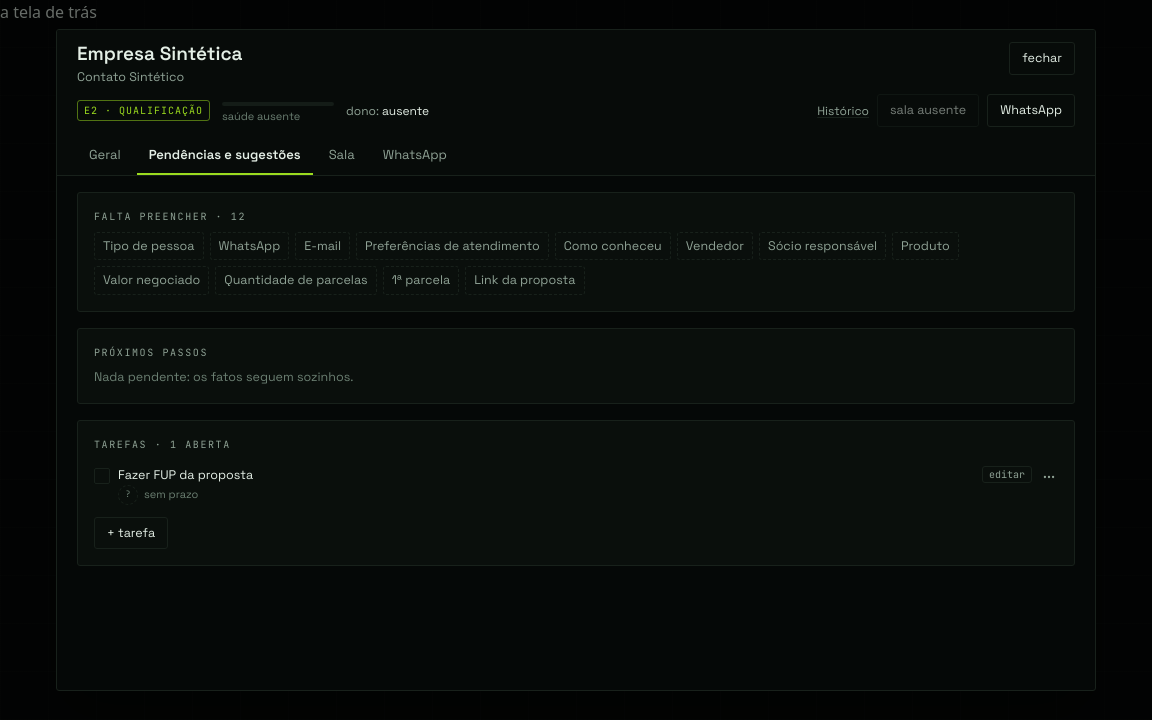
Test: o bloco "Tarefas" do painel do lead › Layout 26/10: a tarefa abre no pop-up único POR CIMA do painel, sem sair para /trabalho; Esc fecha só a tarefa
Click the button "Fazer FUP da proposta".
click(186, 475)  # box [118, 466, 253, 485]
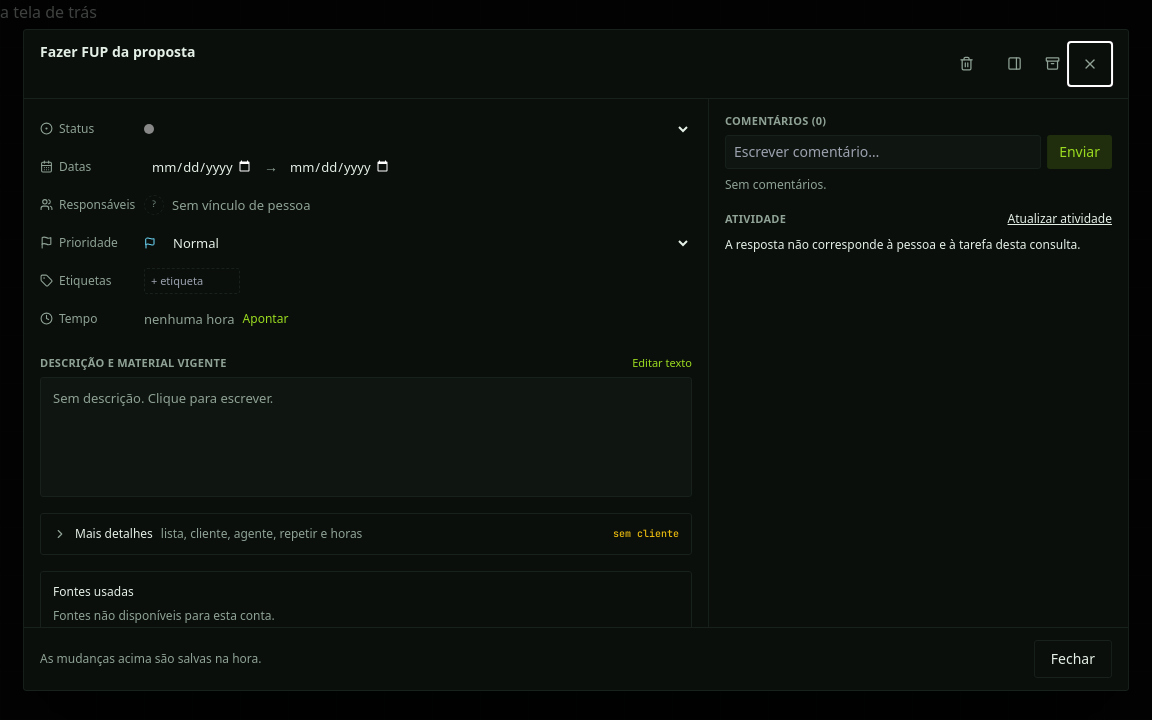
Press Escape
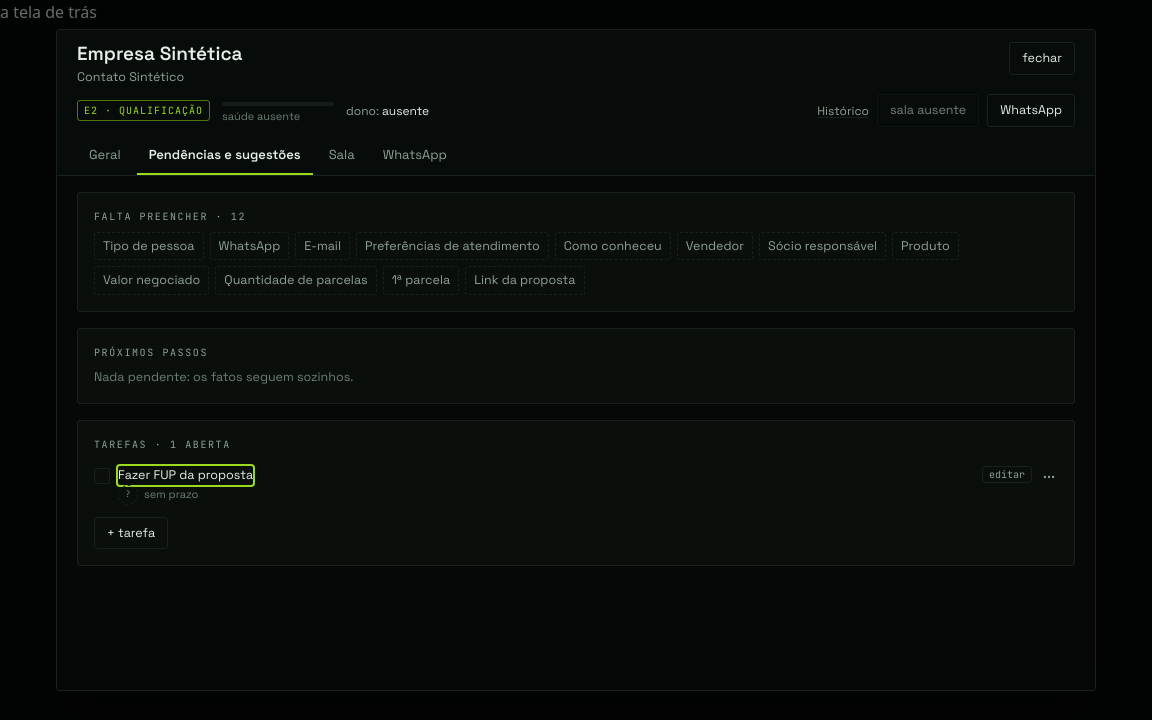
Check: the dialog with test id "tarefa-popup" is gone
